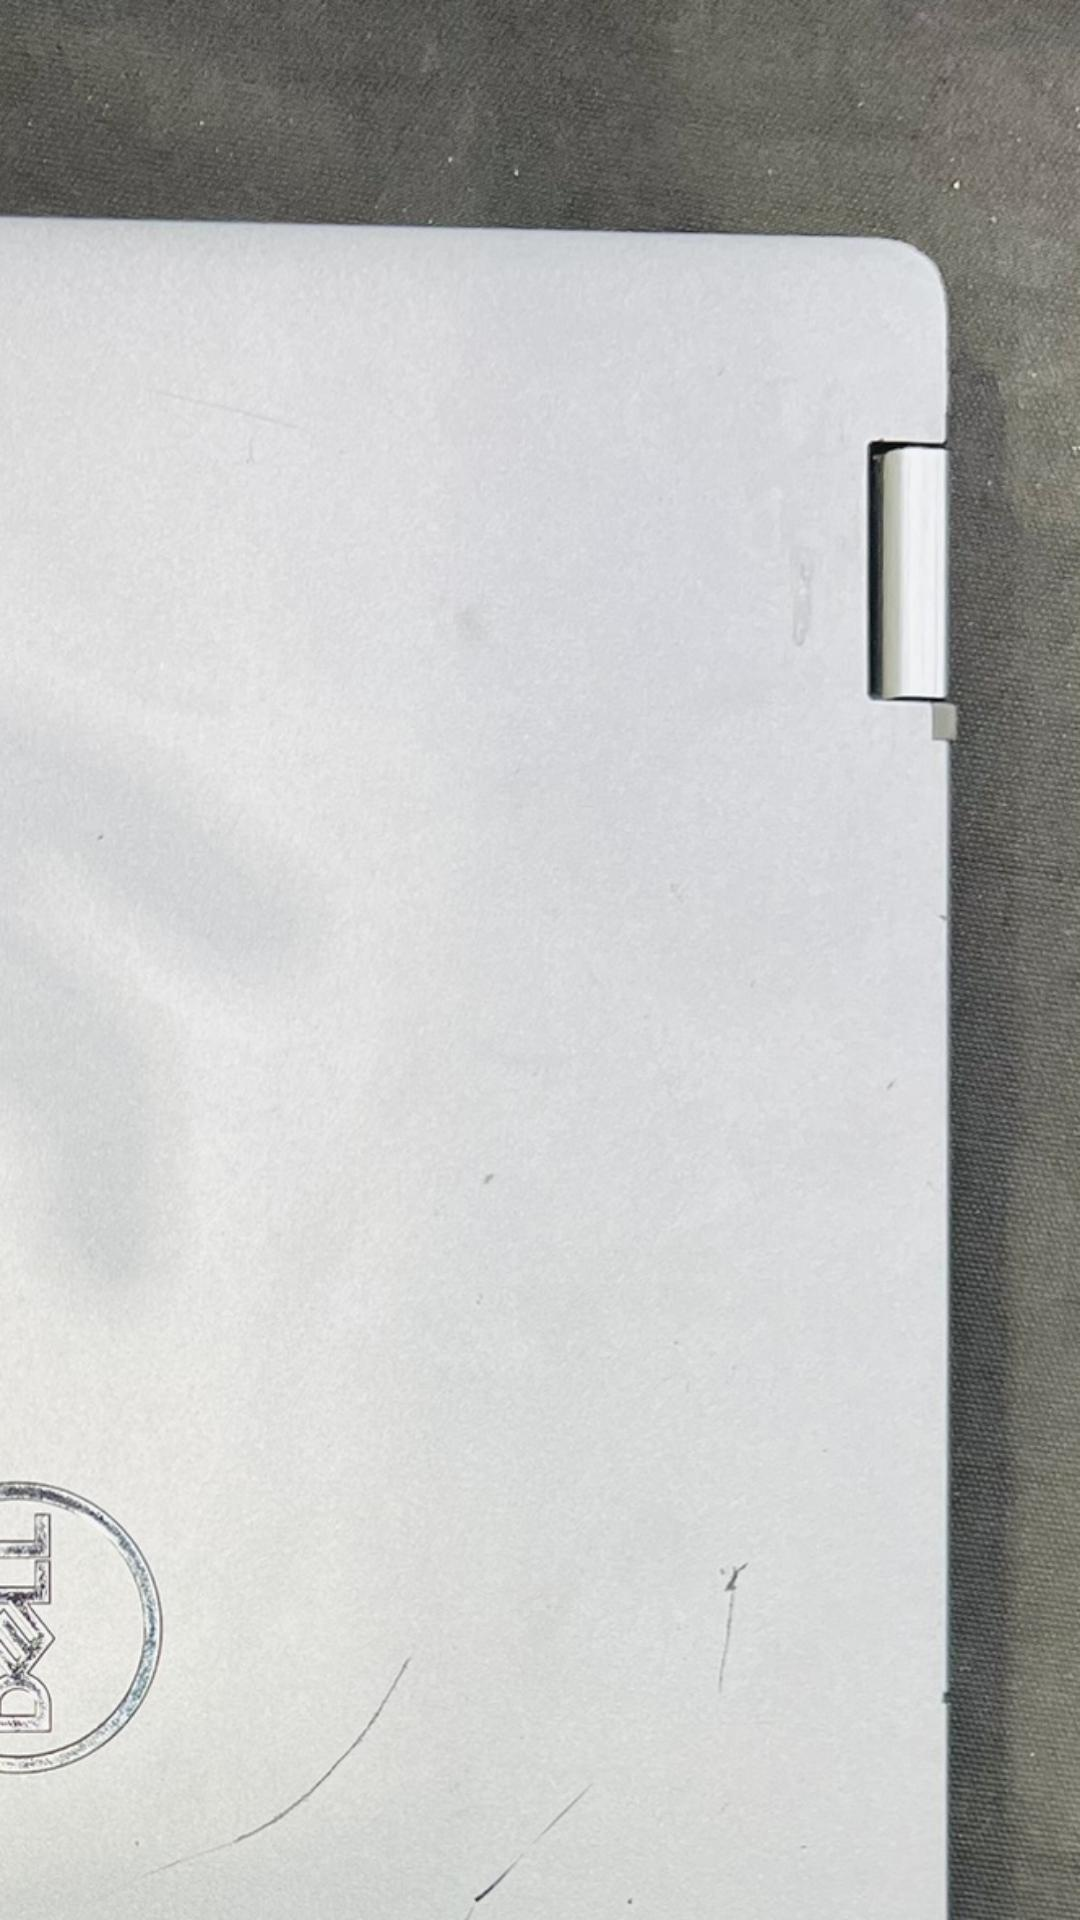chip: (625, 1891, 637, 1912), (941, 1690, 951, 1705)
scratches: (145, 1652, 415, 1875), (147, 393, 300, 430), (717, 1559, 754, 1692), (528, 1779, 595, 1846), (470, 1853, 524, 1904), (463, 1907, 476, 1920)
